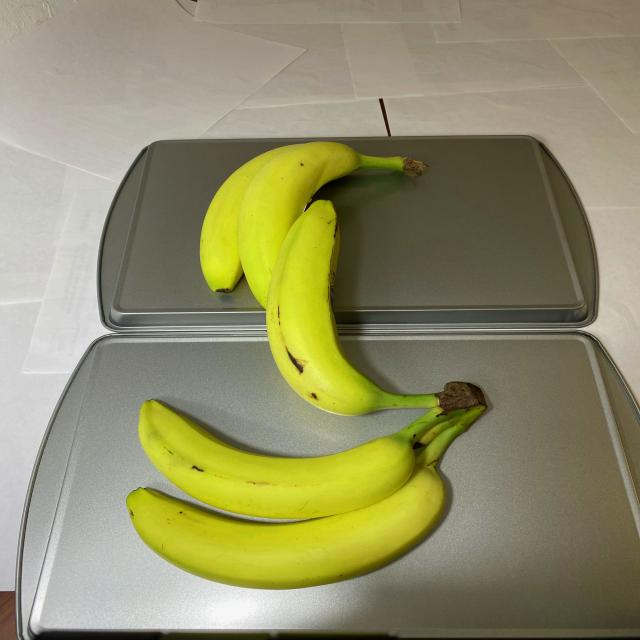banana: (114, 144, 486, 596)
